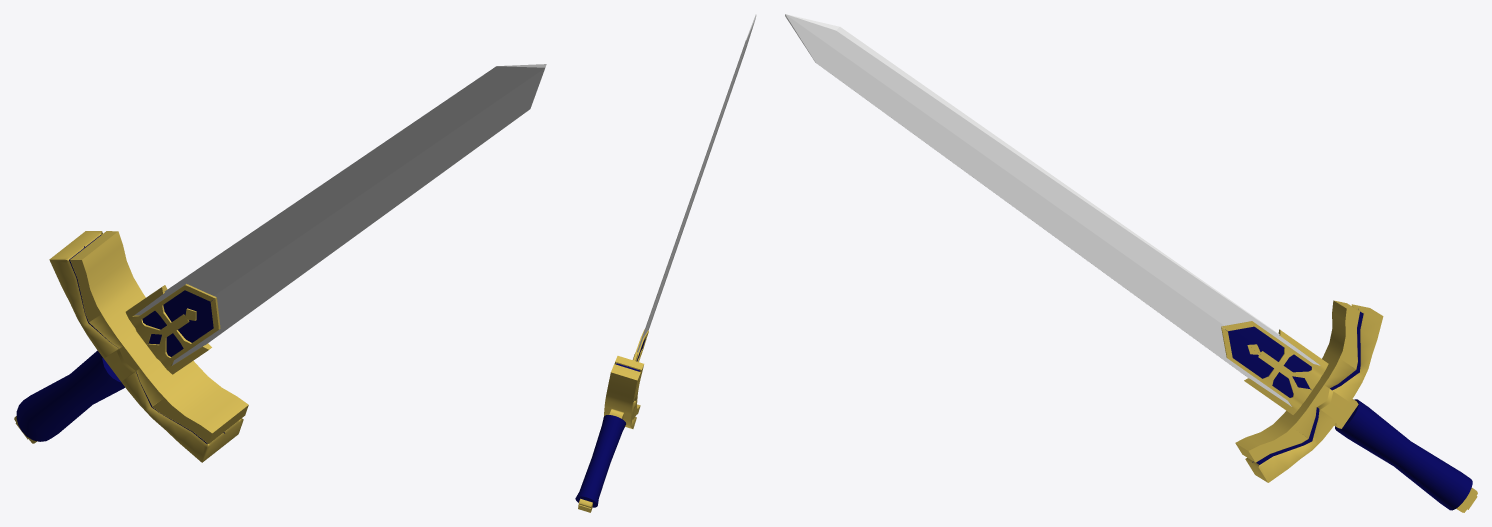
The model's file is excalibur.fbx.
3 renders of one model, left to right at view 1: azimuth 30°, elevation 25°; view 2: azimuth 150°, elevation 25°; view 3: azimuth 270°, elevation 25°, orthographic. The views are drawn at different scales.
Parts seen in each view (by area): view 1: Excalibur:blade, Excalibur:gold_grid, Excalibur:blue_hilt, Excalibur:gold_pattern, Excalibur:blue_pattern; view 2: Excalibur:blue_hilt, Excalibur:gold_grid, Excalibur:blade, Excalibur:gold_hilt; view 3: Excalibur:blade, Excalibur:gold_grid, Excalibur:blue_hilt, Excalibur:gold_pattern, Excalibur:blue_pattern.
Part boxes in pixels (left/top/right/bottom): Excalibur:blade: left=134, top=64, right=546, bottom=365; Excalibur:gold_grid: left=49, top=231, right=248, bottom=462; Excalibur:blue_hilt: left=16, top=350, right=124, bottom=441; Excalibur:gold_pattern: left=125, top=284, right=220, bottom=374; Excalibur:blue_pattern: left=142, top=290, right=213, bottom=356; Excalibur:blue_hilt: left=575, top=415, right=625, bottom=507; Excalibur:gold_grid: left=604, top=356, right=643, bottom=428; Excalibur:blade: left=637, top=14, right=756, bottom=352; Excalibur:gold_hilt: left=578, top=409, right=623, bottom=512; Excalibur:blade: left=785, top=14, right=1320, bottom=406; Excalibur:gold_grid: left=1235, top=300, right=1383, bottom=482; Excalibur:blue_hilt: left=1335, top=399, right=1472, bottom=510; Excalibur:gold_pattern: left=1221, top=321, right=1328, bottom=414; Excalibur:blue_pattern: left=1225, top=326, right=1311, bottom=397.
Size of the model in its own units: 0.5406 by 2.58 by 3.05.
